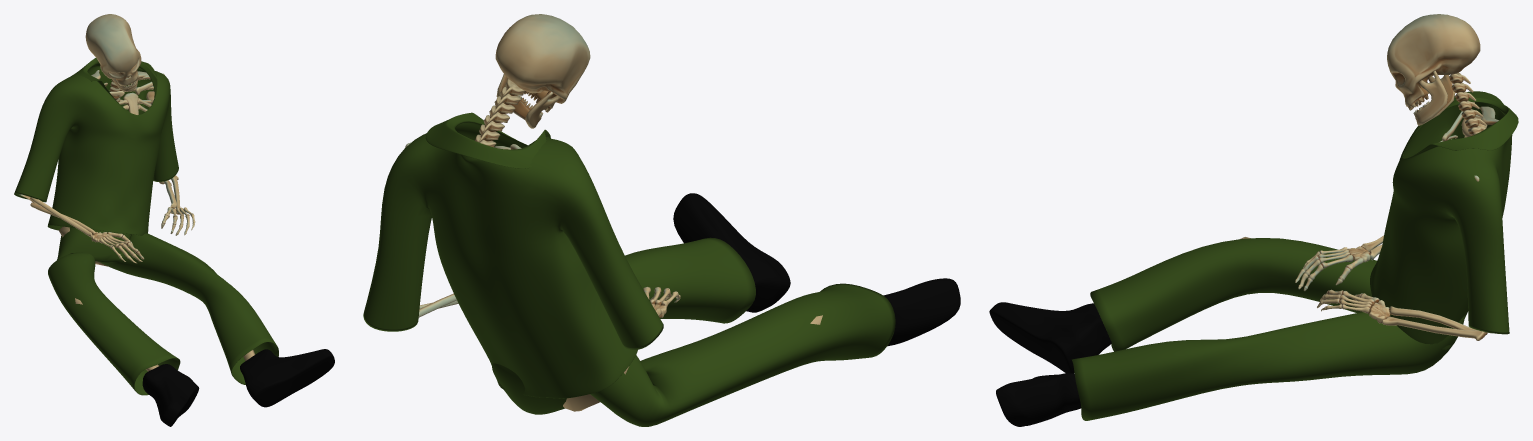
Rendered from Skeleton_poses_sitting.fbx.
3 views of the same model, side by side, from view 1: azimuth 30°, elevation 25°; view 2: azimuth 150°, elevation 25°; view 3: azimuth 270°, elevation 25° (orthographic). The views are drawn at different scales.
Visible parts, largest first — view 1: Shirt3.002, Pants.002, SKELETON_LP.002, Boots.002; view 2: Shirt3.002, Pants.002, SKELETON_LP.002, Boots.002; view 3: Pants.002, Shirt3.002, SKELETON_LP.002, Boots.002.
Boxes of the visible parts, box(x1,y1,x2,y2) form: Shirt3.002: box(14, 58, 178, 235); Pants.002: box(48, 227, 278, 395); SKELETON_LP.002: box(19, 14, 255, 371); Boots.002: box(142, 349, 334, 426); Shirt3.002: box(363, 112, 663, 398); Pants.002: box(491, 237, 895, 426); SKELETON_LP.002: box(405, 14, 822, 411); Boots.002: box(673, 193, 960, 346); Pants.002: box(1071, 238, 1465, 420); Shirt3.002: box(1370, 91, 1518, 349); SKELETON_LP.002: box(1240, 14, 1498, 340); Boots.002: box(989, 302, 1111, 426).
Bounding box in the file's own units: 73.01 × 102 × 123.
